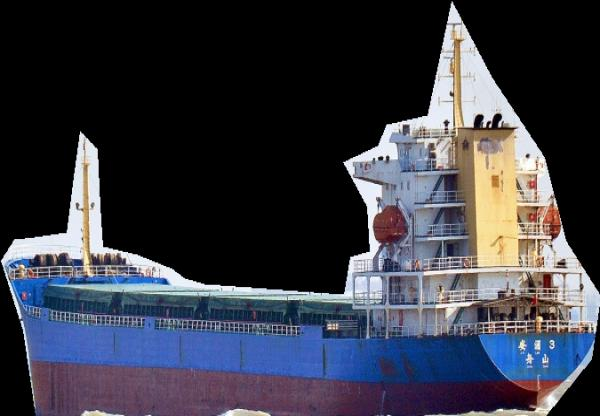Bulkers: (1, 1, 600, 416)
